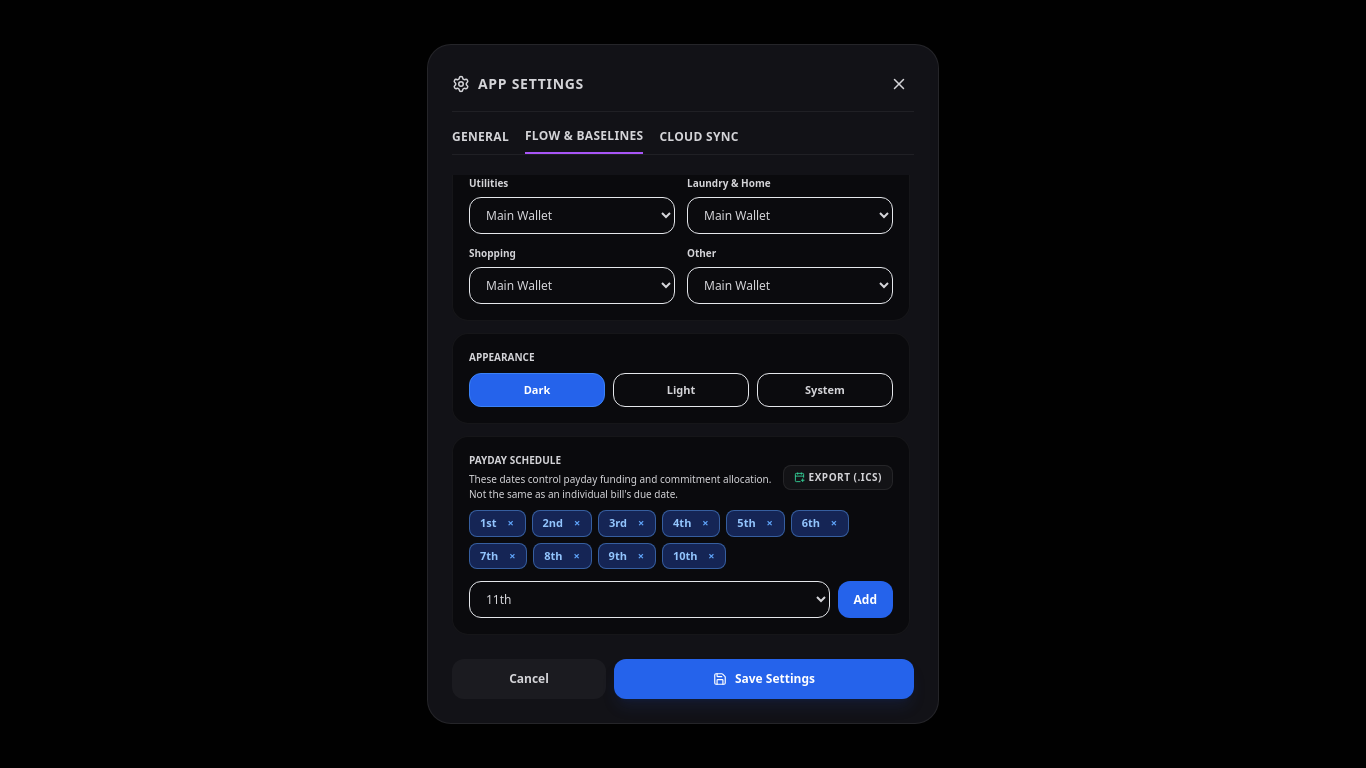
SettingsModal - Custom Payday Configuration › allows adding more than 10 custom paydays without an arbitrary limit
This screenshot has width=1366, height=768.
(page scrolled)
Note: Verify day 11 can be selected and added beyond 10 days
Select "11th" in the dropdown named "select payday day" at (649, 600), box 469,581 -> 830,618
Click the button "Add" at (865, 600), box 838,581 -> 893,618
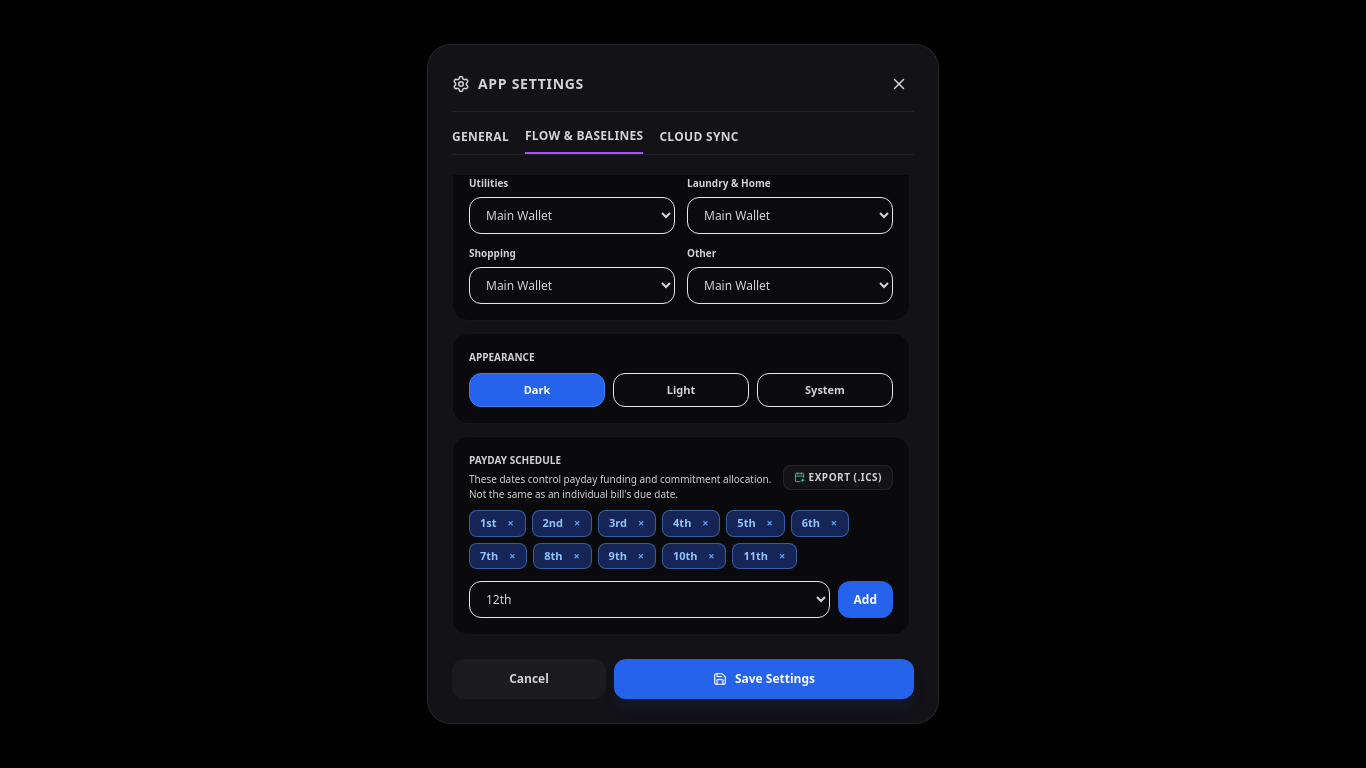
Expected: the element with test id "payday-chip-11" is shown, 732,543 -> 797,569
